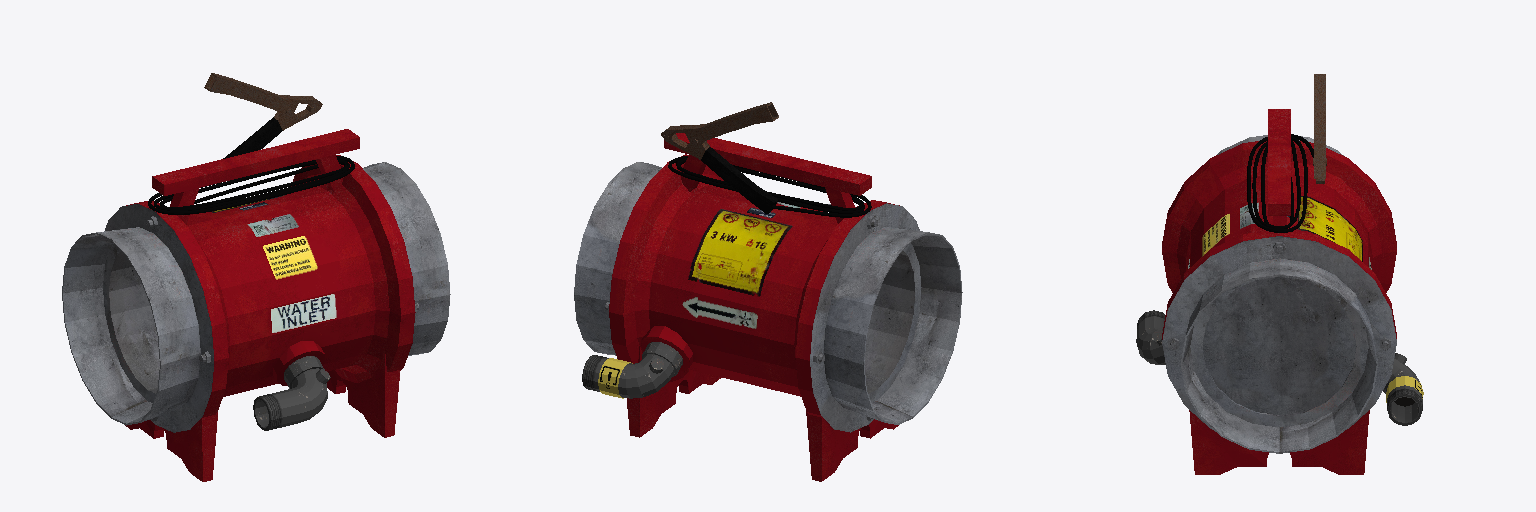
The picture shows the model from 3 angles: view 1: azimuth 30°, elevation 25°; view 2: azimuth 150°, elevation 25°; view 3: azimuth 270°, elevation 25°; orthographic projection.
Visible parts, largest first — view 1: pCylinder25_Untitled, extrudedSurface1_Untitled.002, pCylinder28_Untitled.001; view 2: pCylinder25_Untitled, pCylinder28_Untitled.001, extrudedSurface1_Untitled.002; view 3: pCylinder25_Untitled, extrudedSurface1_Untitled.002, pCylinder28_Untitled.001.
Part boxes in pixels (left/top/right/bottom): pCylinder25_Untitled: left=62, top=129, right=450, bottom=481; extrudedSurface1_Untitled.002: left=148, top=156, right=354, bottom=214; pCylinder28_Untitled.001: left=204, top=73, right=322, bottom=183; pCylinder25_Untitled: left=574, top=133, right=962, bottom=481; pCylinder28_Untitled.001: left=661, top=102, right=778, bottom=213; extrudedSurface1_Untitled.002: left=668, top=156, right=871, bottom=217; pCylinder25_Untitled: left=1136, top=109, right=1423, bottom=474; extrudedSurface1_Untitled.002: left=1247, top=134, right=1313, bottom=232; pCylinder28_Untitled.001: left=1313, top=74, right=1326, bottom=183.
Bounding box in the file's own units: 2.27 × 2.57 × 1.94.
Materials: 1 (1 with a texture image).